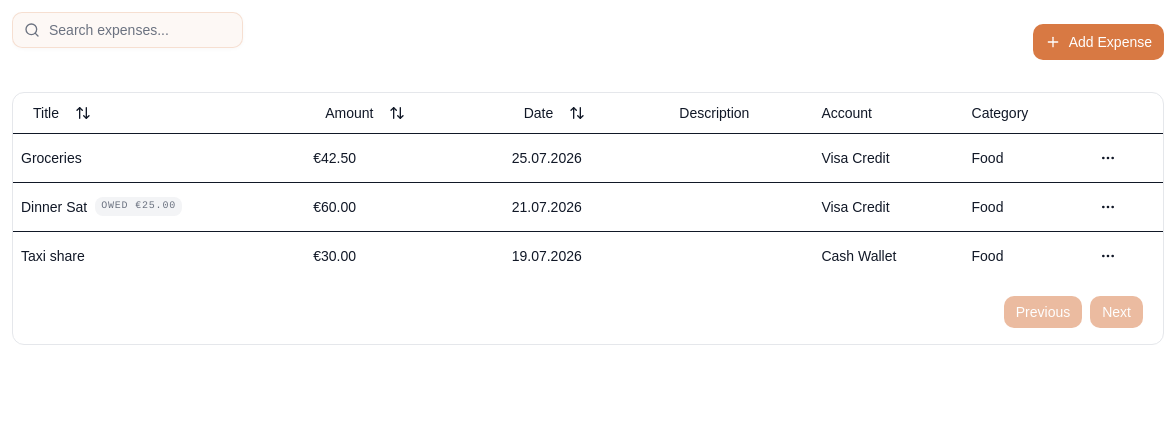
Test case: ExpenseList settle action › never hides the actions every row has
Click the button named "open menu" in the row of "Taxi share".
click(1108, 256)  # box left=1092, top=240, right=1124, bottom=272
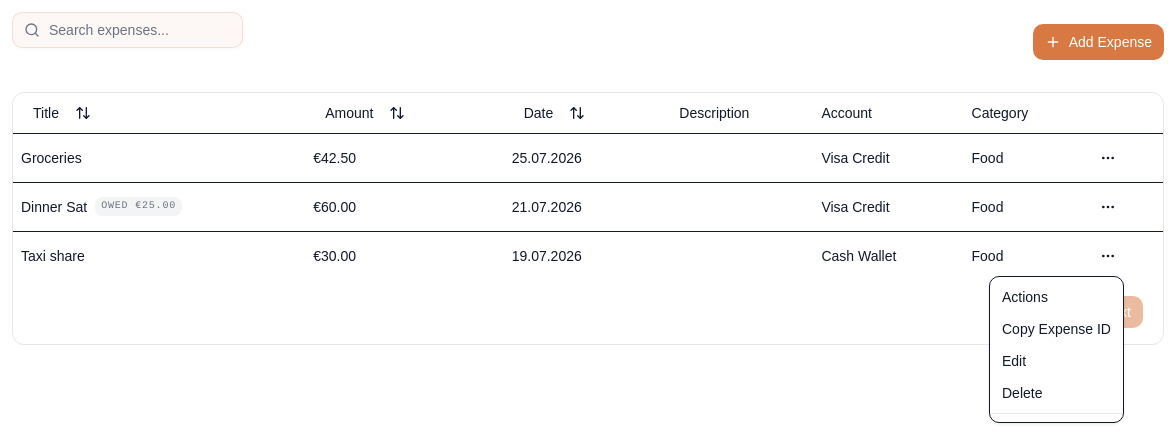
Result: the menu item "Edit" is shown at left=1002, top=353, right=1026, bottom=369
Result: the menu item "Delete" is shown at left=1002, top=385, right=1042, bottom=401
Result: the menu item "Copy Expense ID" is shown at left=1002, top=321, right=1111, bottom=337
